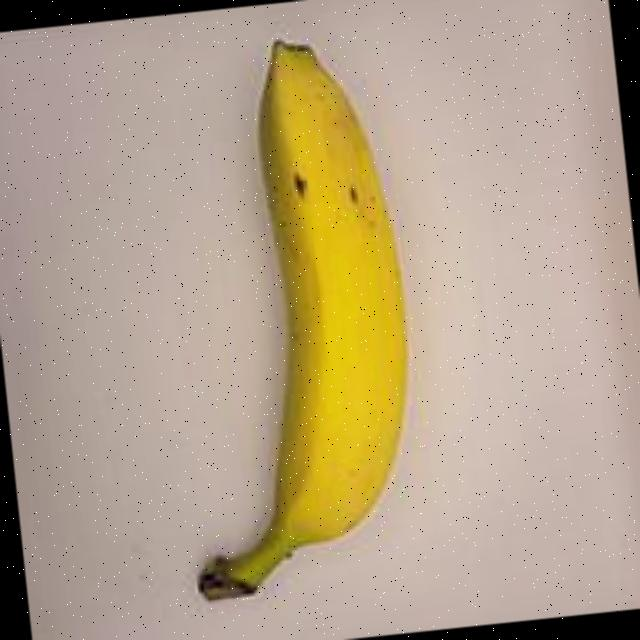Ripe: (129, 12, 461, 602)
